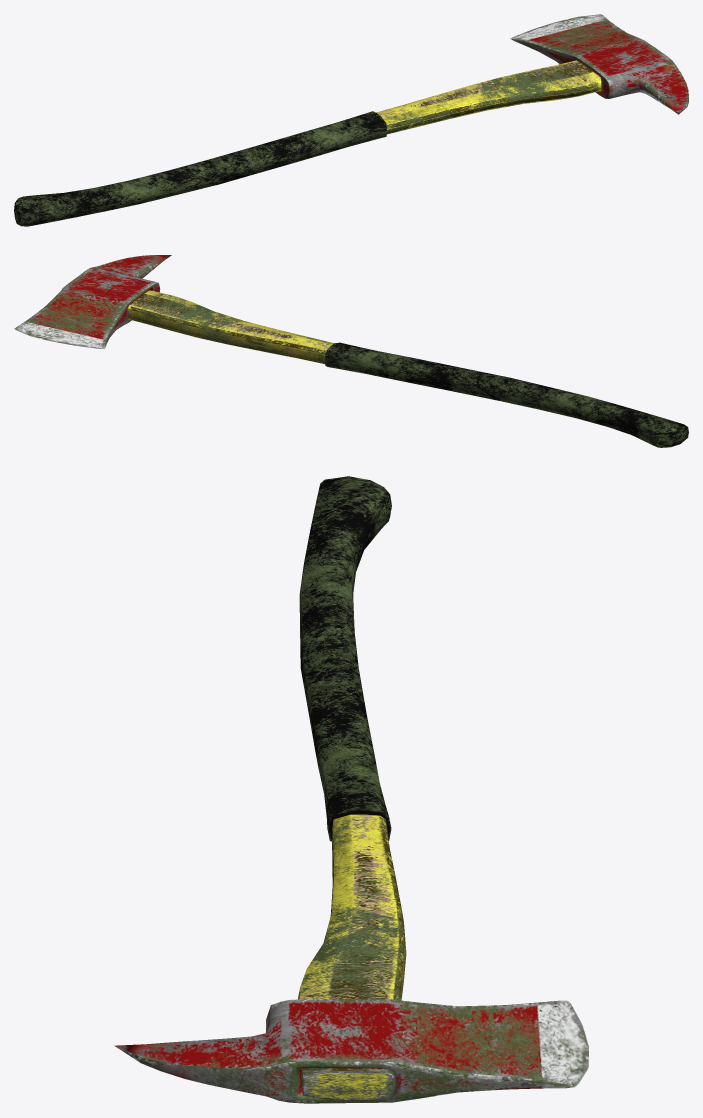
File: old_fire_axe.glb
3 renders of one model, top to bottom at view 1: azimuth 30°, elevation 25°; view 2: azimuth 150°, elevation 25°; view 3: azimuth 270°, elevation 25°, orthographic. The views are drawn at different scales.
Visible parts, largest first — view 1: pCube1, pCylinder1; view 2: pCube1, pCylinder1; view 3: pCube1, pCylinder1.
Boxes of the visible parts, x1=… form: pCube1: x1=14, y1=47, x2=656, y2=226; pCylinder1: x1=510, y1=14, x2=688, y2=114; pCube1: x1=62, y1=278, x2=688, y2=447; pCylinder1: x1=14, y1=255, x2=171, y2=348; pCube1: x1=298, y1=476, x2=406, y2=1100; pCylinder1: x1=114, y1=999, x2=588, y2=1103.
Size of the model in its own units: 2 by 0.0663 by 0.6718.
Materials: 1 (1 with a texture image).
